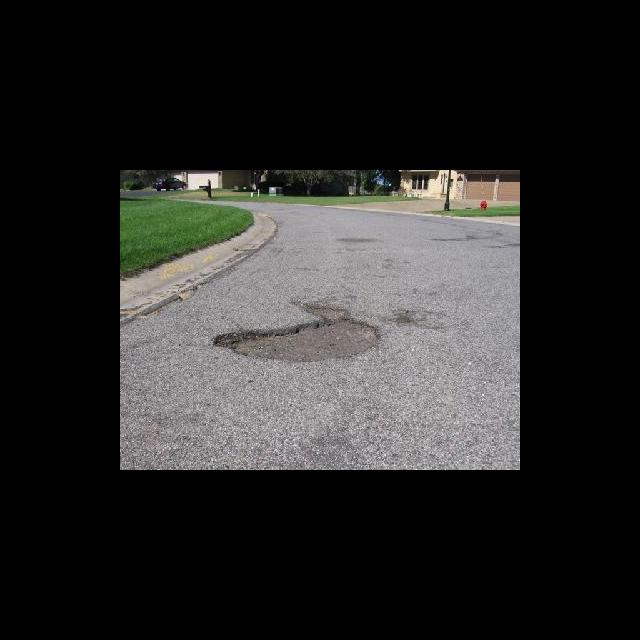lubang_kecil: (200, 306, 389, 375)
